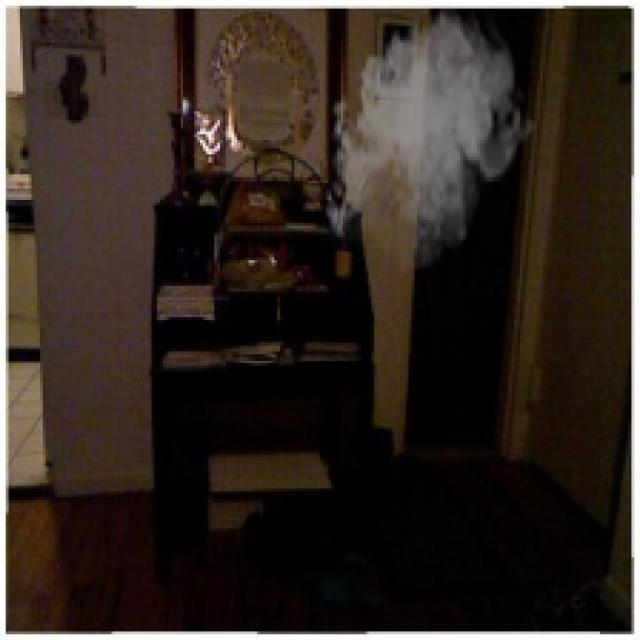Smoke: (320, 0, 537, 277)
